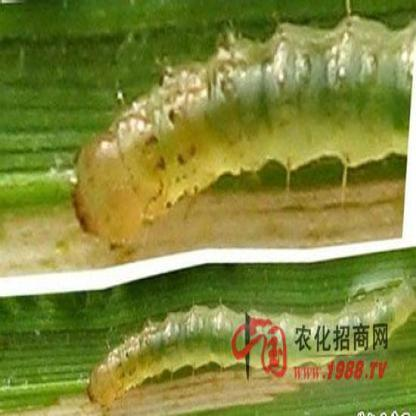leaf-folder: (65, 7, 416, 245), (78, 294, 226, 410)
